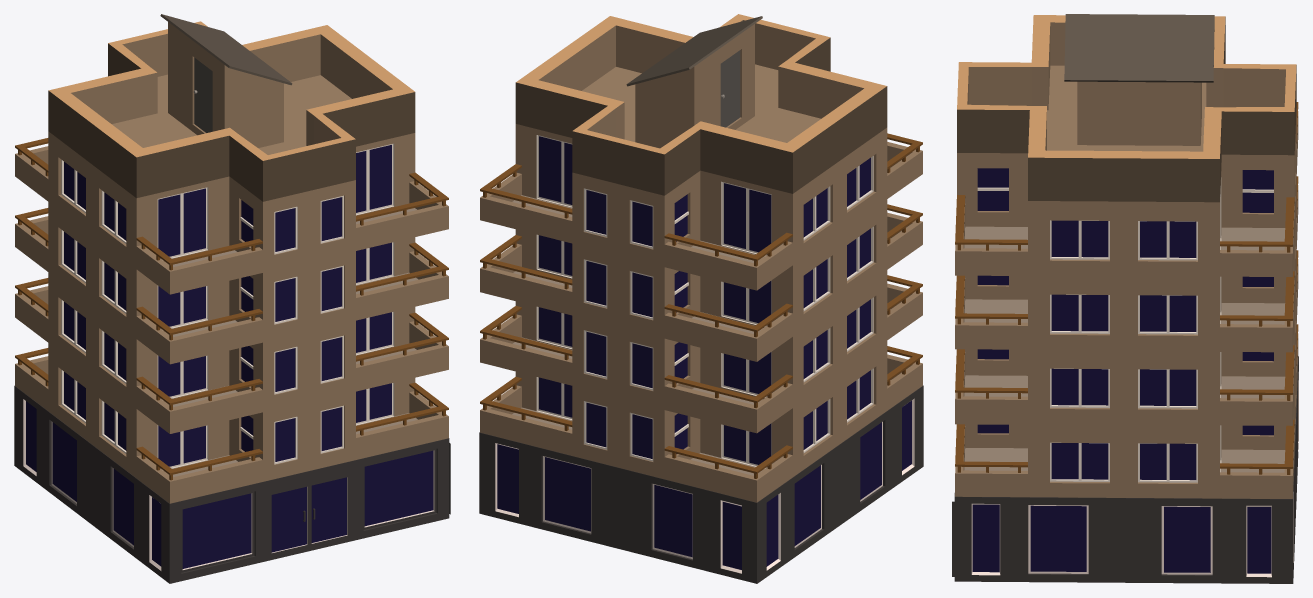
Rendered from big2.glb.
The picture shows the model from 3 angles, left to right: view 1: azimuth 30°, elevation 25°; view 2: azimuth 150°, elevation 25°; view 3: azimuth 270°, elevation 25°; orthographic projection. The views are drawn at different scales.
Parts seen in each view (by area): view 1: Residential 11.003; view 2: Residential 11.003; view 3: Residential 11.003.
Boxes of the visible parts, box(x1,y1,x2,y2) form: Residential 11.003: box(14, 14, 450, 583); Residential 11.003: box(479, 14, 923, 583); Residential 11.003: box(952, 14, 1298, 583).
Size of the model in its own units: 14.74 by 22.73 by 14.84.
Materials: 1 (1 with a texture image).
